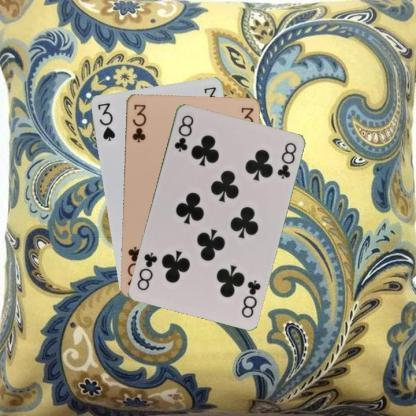3c: (130, 102, 147, 144)
3s: (94, 100, 116, 142)
8c: (238, 277, 262, 319), (171, 112, 195, 153)
